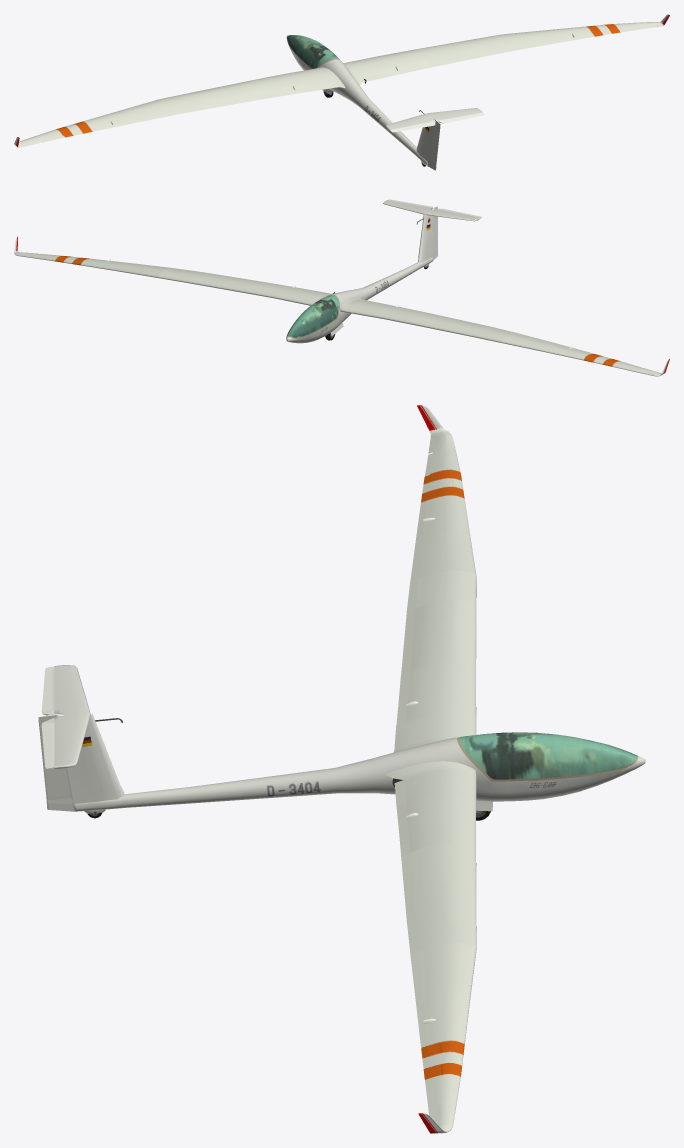
Rendered from DG600_stat.gltf.
The picture shows the model from 3 angles, top to bottom: view 1: azimuth 30°, elevation 25°; view 2: azimuth 150°, elevation 25°; view 3: azimuth 270°, elevation 25°; orthographic projection. The views are drawn at different scales.
Visible parts, largest first — view 1: node2, node17, node12, node19; view 2: node2, node17, node19, node12; view 3: node2, node17, node19, node12.
Boxes of the visible parts, box(x1,y1,x2,y2) form: node2: box(14, 21, 663, 147); node17: box(286, 35, 482, 164); node12: box(110, 33, 575, 170); node19: box(287, 35, 338, 68); node2: box(14, 250, 664, 376); node17: box(286, 200, 480, 343); node19: box(287, 295, 338, 337); node12: box(107, 199, 573, 348); node2: box(385, 429, 476, 1133); node17: box(54, 665, 645, 811); node19: box(459, 732, 637, 779); node12: box(38, 517, 435, 1024).
Size of the model in its own units: 17 by 1.4 by 6.87.
